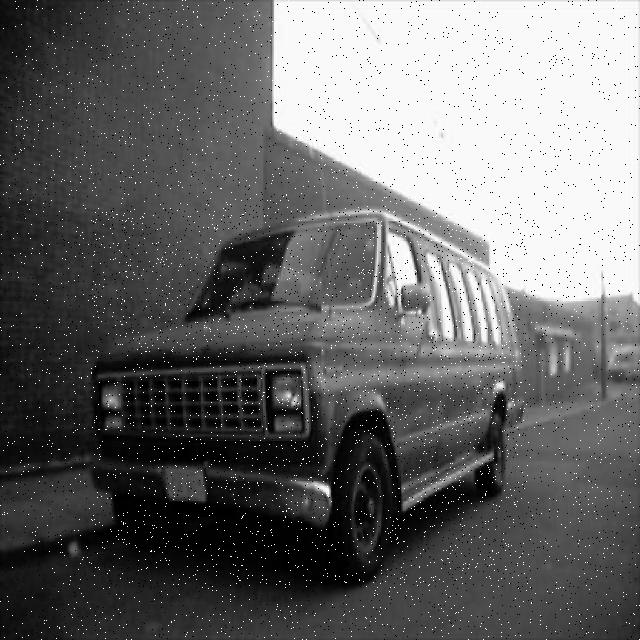Van: (91, 209, 527, 588)
